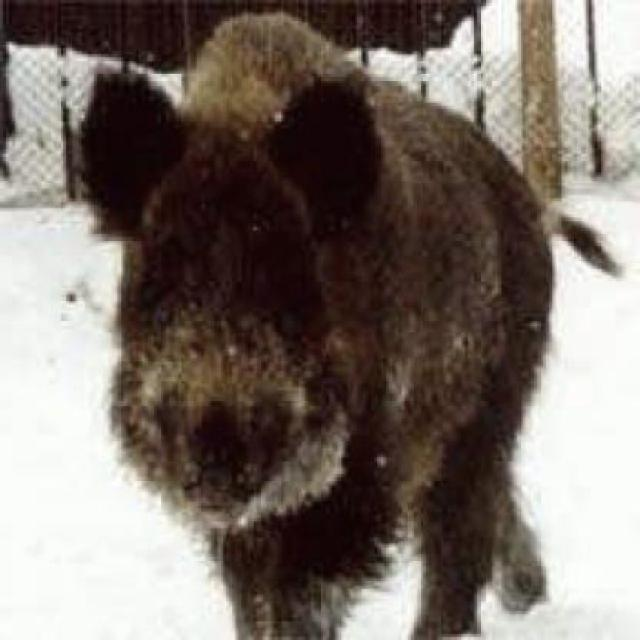Boar: (92, 0, 558, 638)
